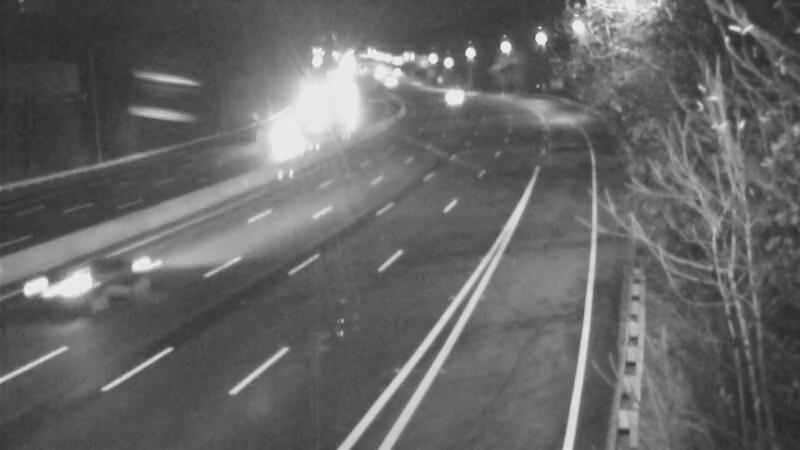vehicle: (27, 243, 107, 323), (430, 74, 480, 124), (257, 116, 307, 166)
